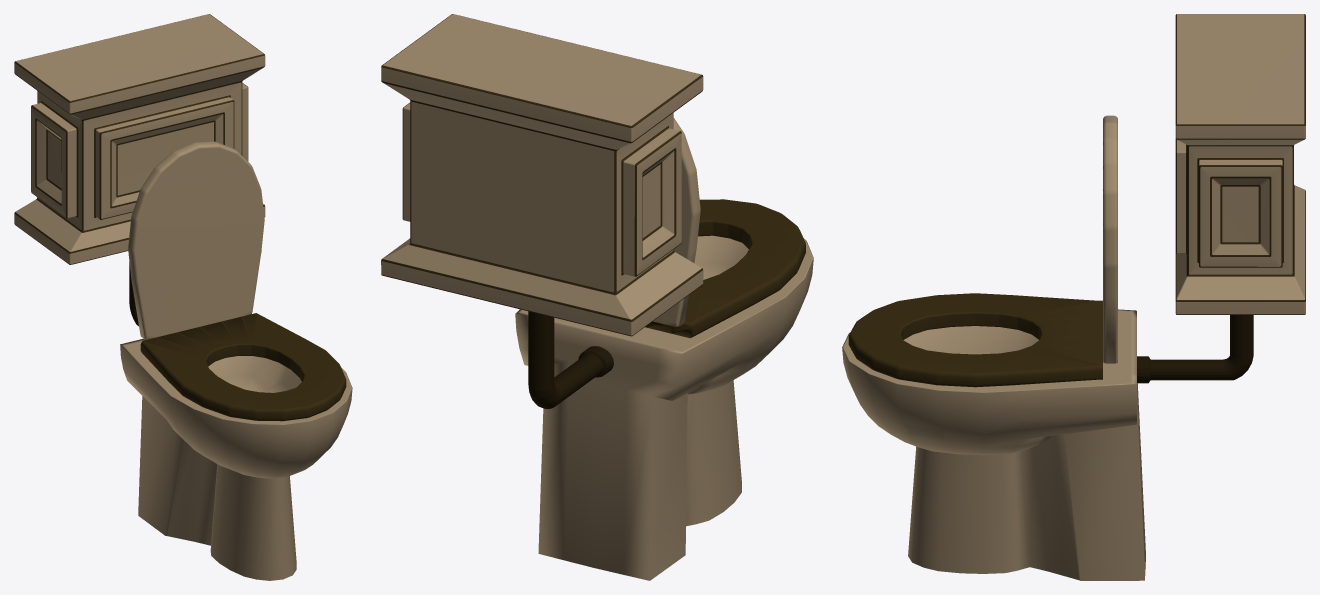
The model's file is Toilet.fbx.
The picture shows the model from 3 angles, left to right: view 1: azimuth 30°, elevation 25°; view 2: azimuth 150°, elevation 25°; view 3: azimuth 270°, elevation 25°; orthographic projection. The views are drawn at different scales.
Visible parts, largest first — view 1: Toilet; view 2: Toilet; view 3: Toilet.
Boxes of the visible parts, box(x1,y1,x2,y2) form: Toilet: box(14, 14, 352, 580); Toilet: box(381, 14, 813, 580); Toilet: box(842, 14, 1305, 580).
Bounding box in the file's own units: 4.74 × 9.65 × 8.33.
